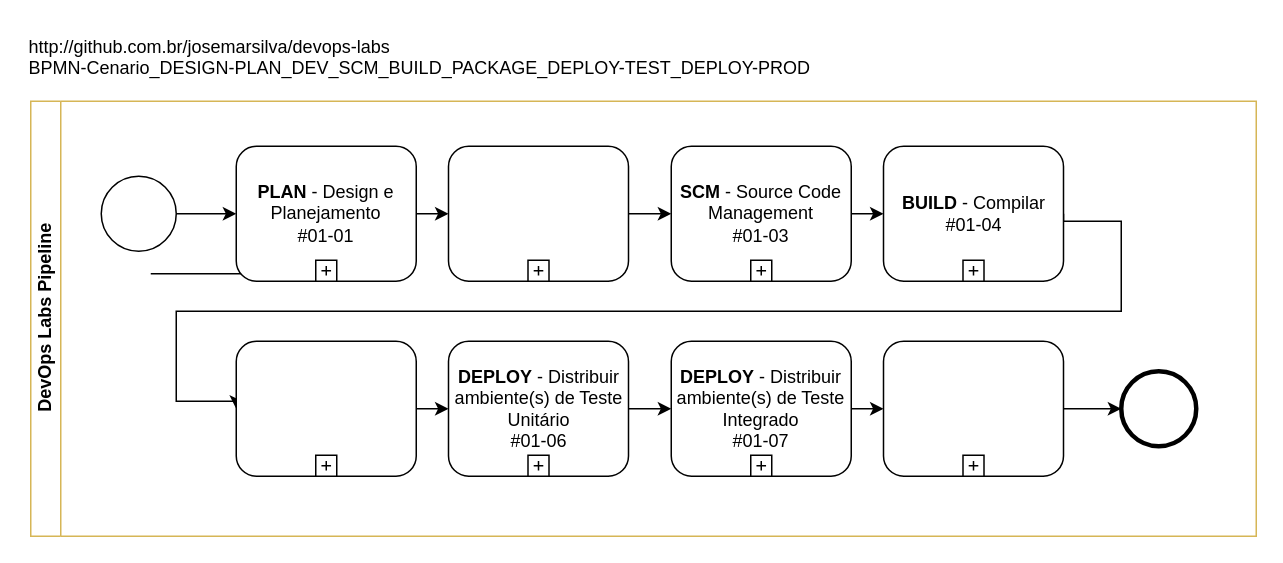
The diagram is 1283 pixels wide and 563 high, and some of its shapes have lost their labels. The centre of each missing label's shape, as x and y in pixels:
DEPLOY - Distribuir ambiente(s) de Produção #01-08: the point at 973,408
DEV - Development #01-02: the point at 537,213
PACKAGE - Empacotar p/ deploy #01-05: the point at 325,408
